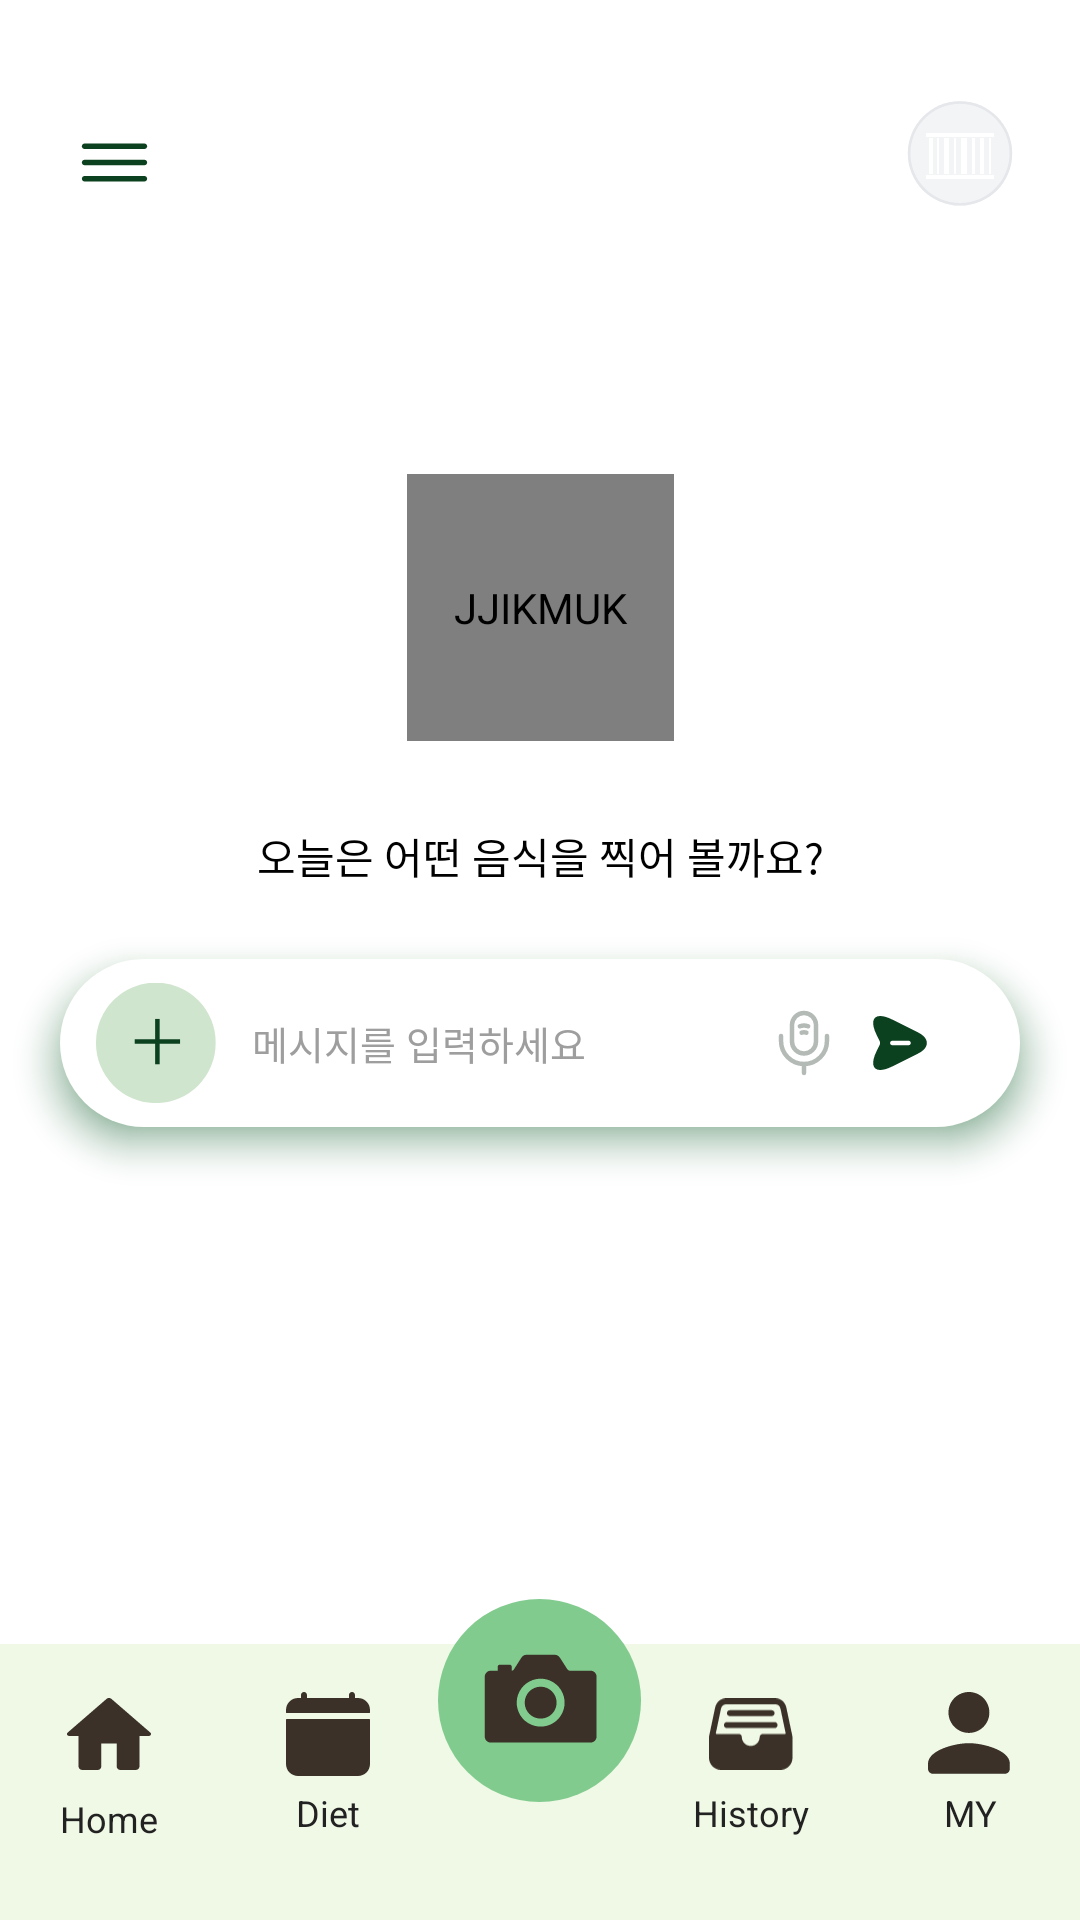

Screen size 1080*1920. Icon name, then its center in pixels as [x,y]:
메뉴 열기: [114,162]
음성 검색: [804,1043]
추가: [156,1043]
텍스트 보내기: [900,1043]
